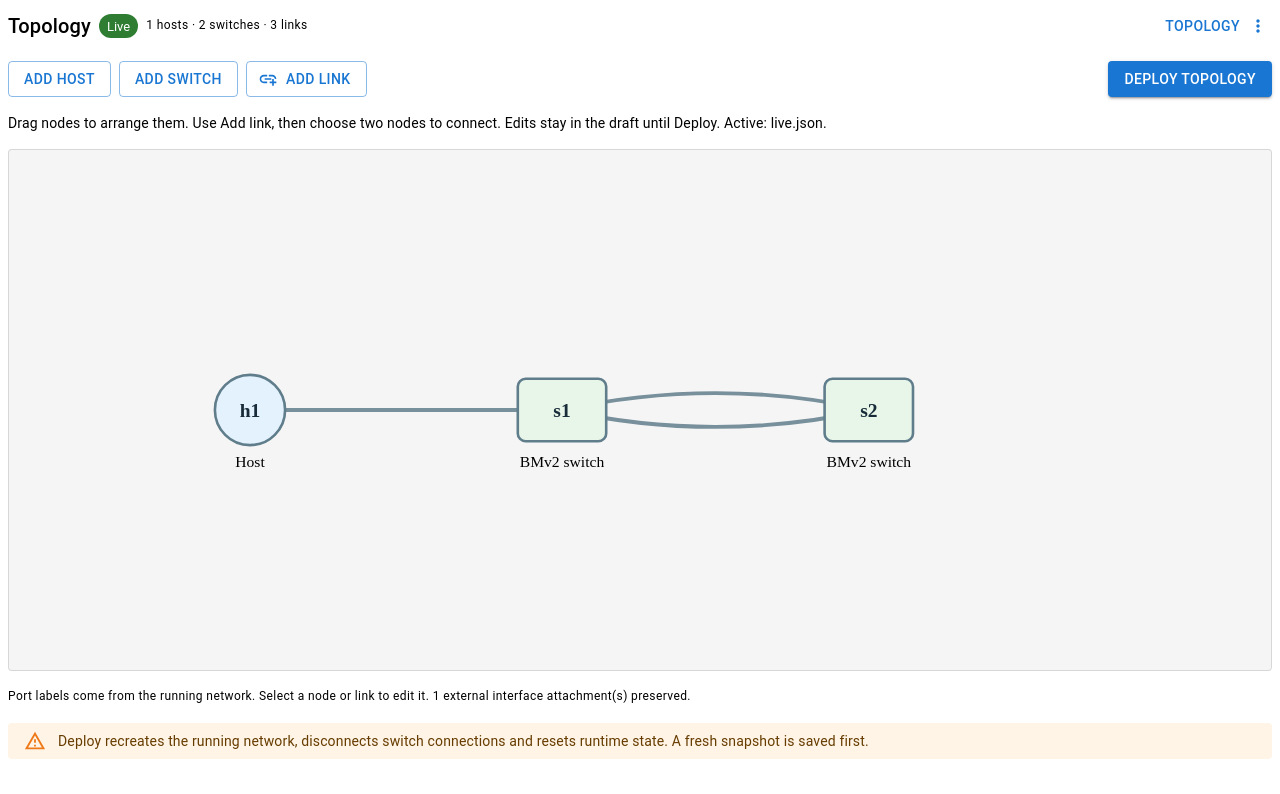
Test case: topology builder › requires confirmation before clearing the running network and keeps the draft
Click the button with aria-label "Topology menu".
click(1215, 26)  # box [1157,8,1272,44]
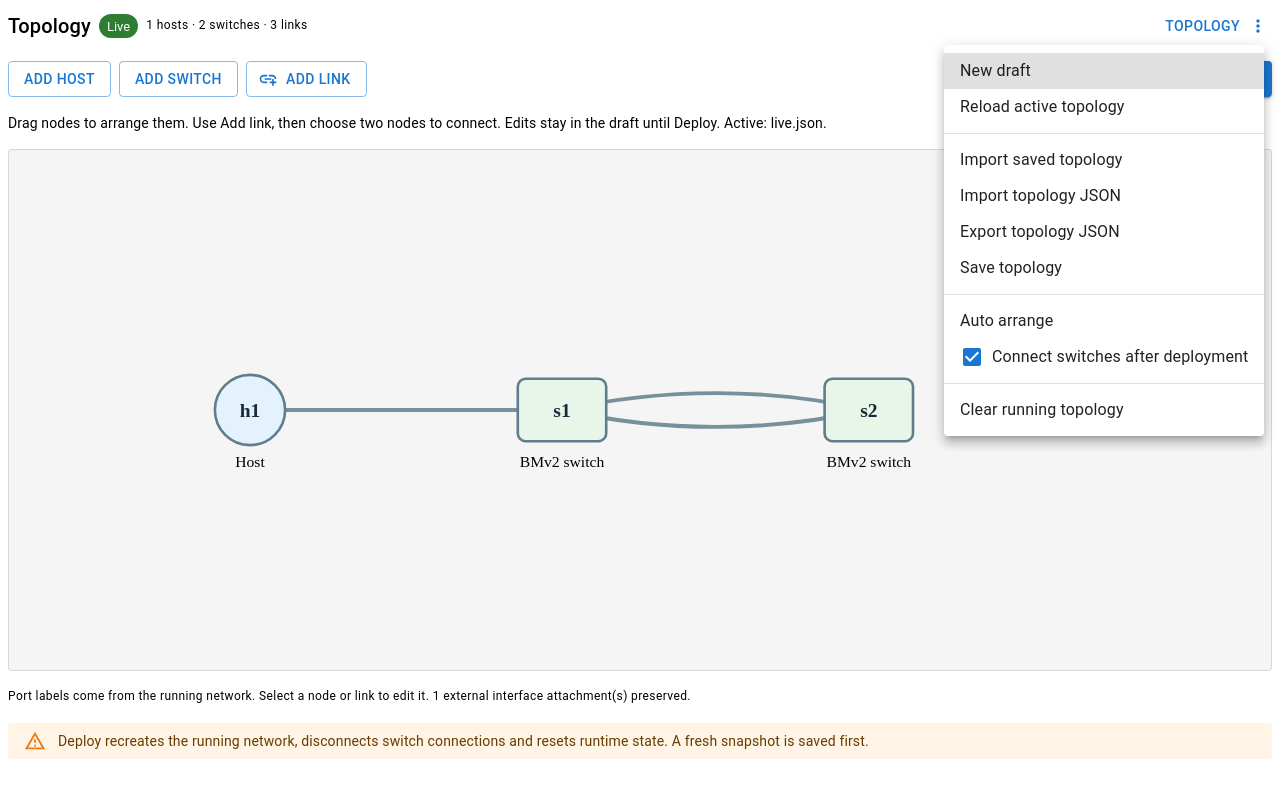
Click the menu item "Clear running topology".
click(1042, 410)  # box [960,400,1124,419]
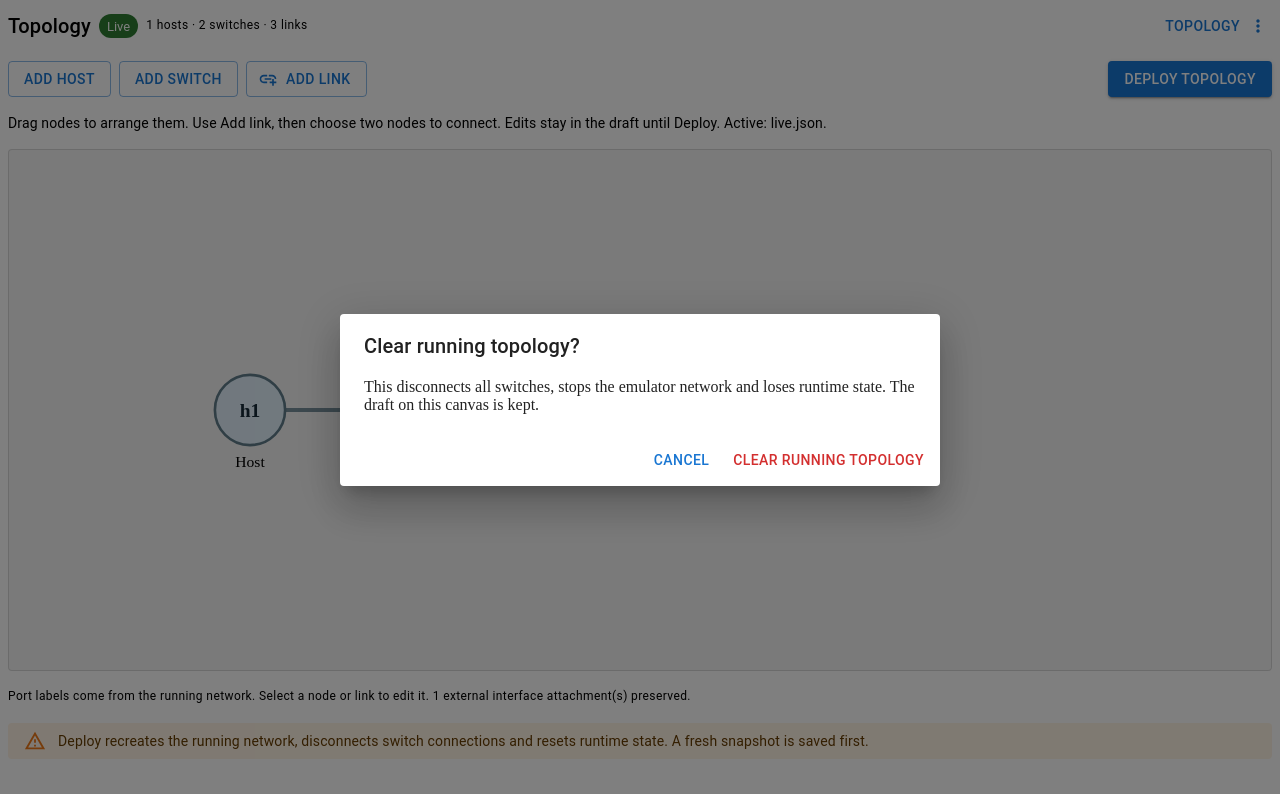
Click the button "Cancel".
click(682, 460)  # box [646,442,717,478]
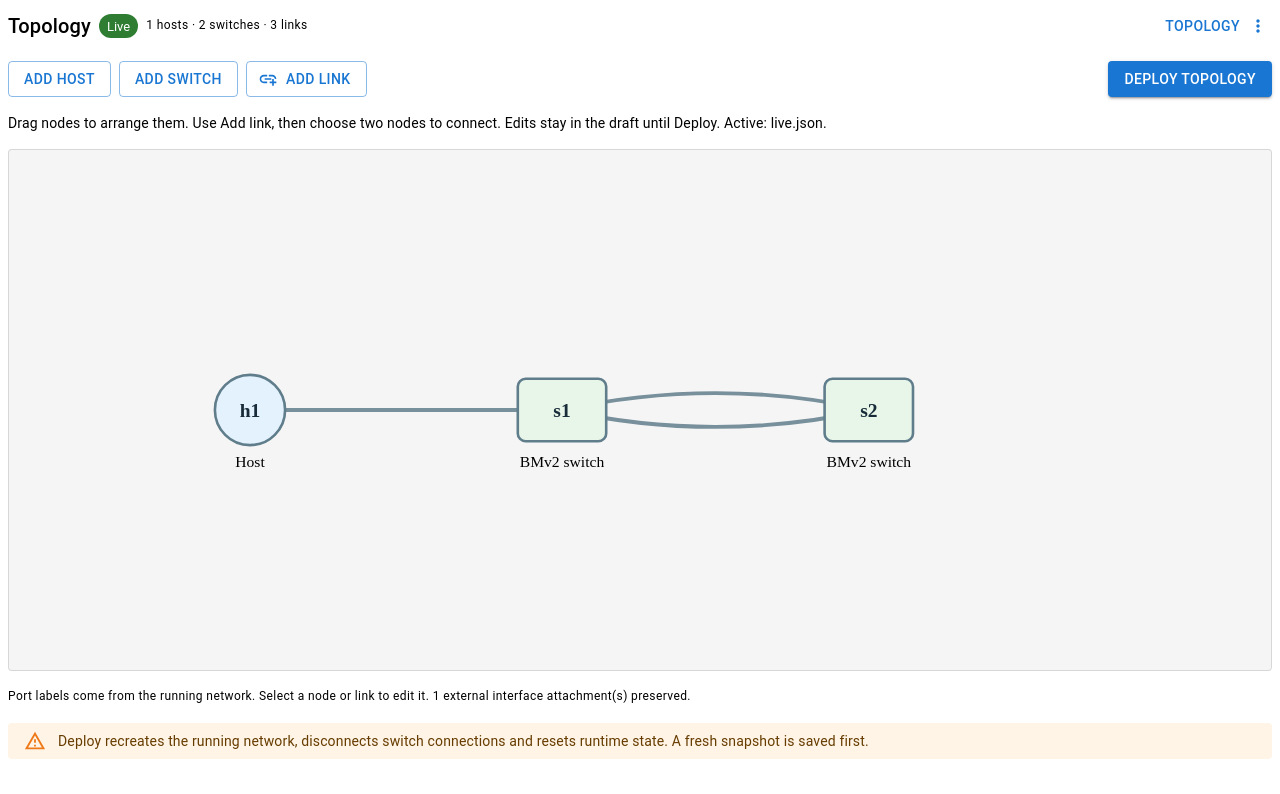
Now the heading "Clear running topology?" is gone
Click the button with aria-label "Topology menu".
click(1215, 26)  # box [1157,8,1272,44]
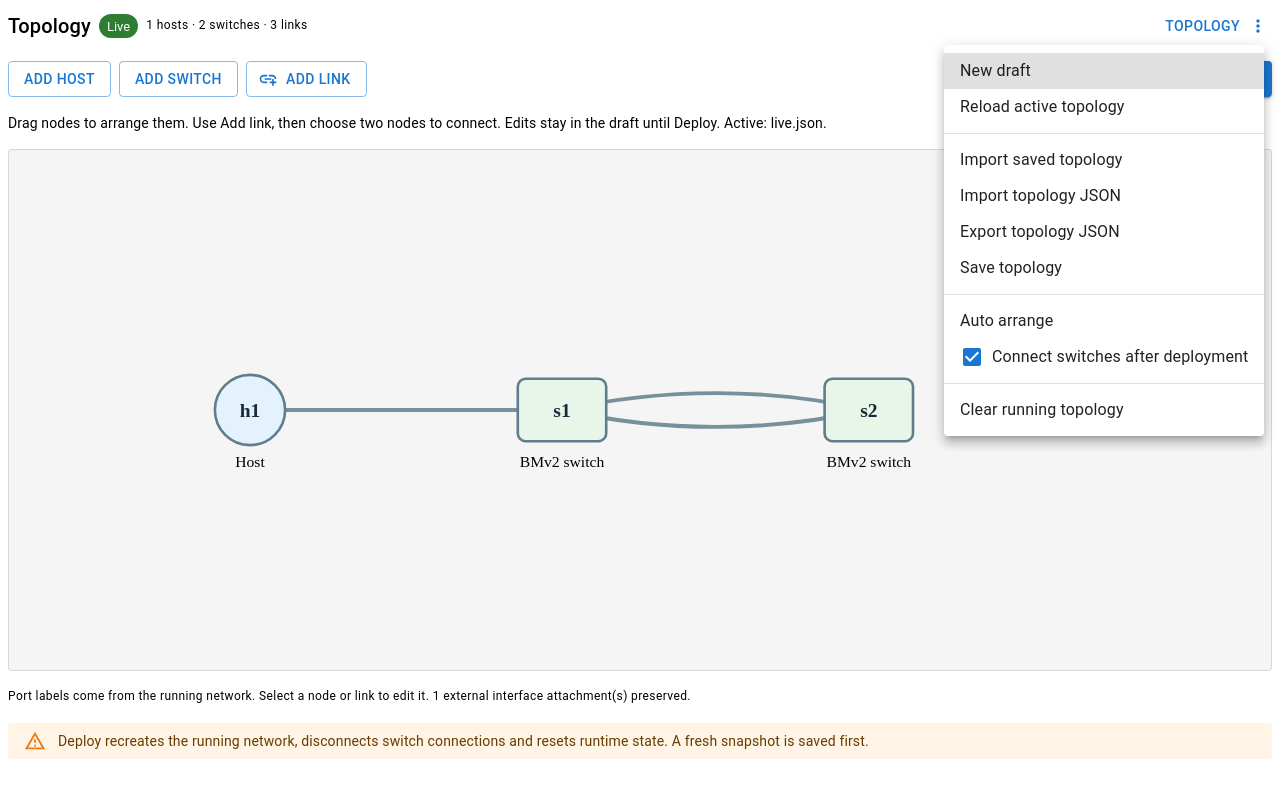
Click the menu item "Clear running topology".
click(1042, 410)  # box [960,400,1124,419]
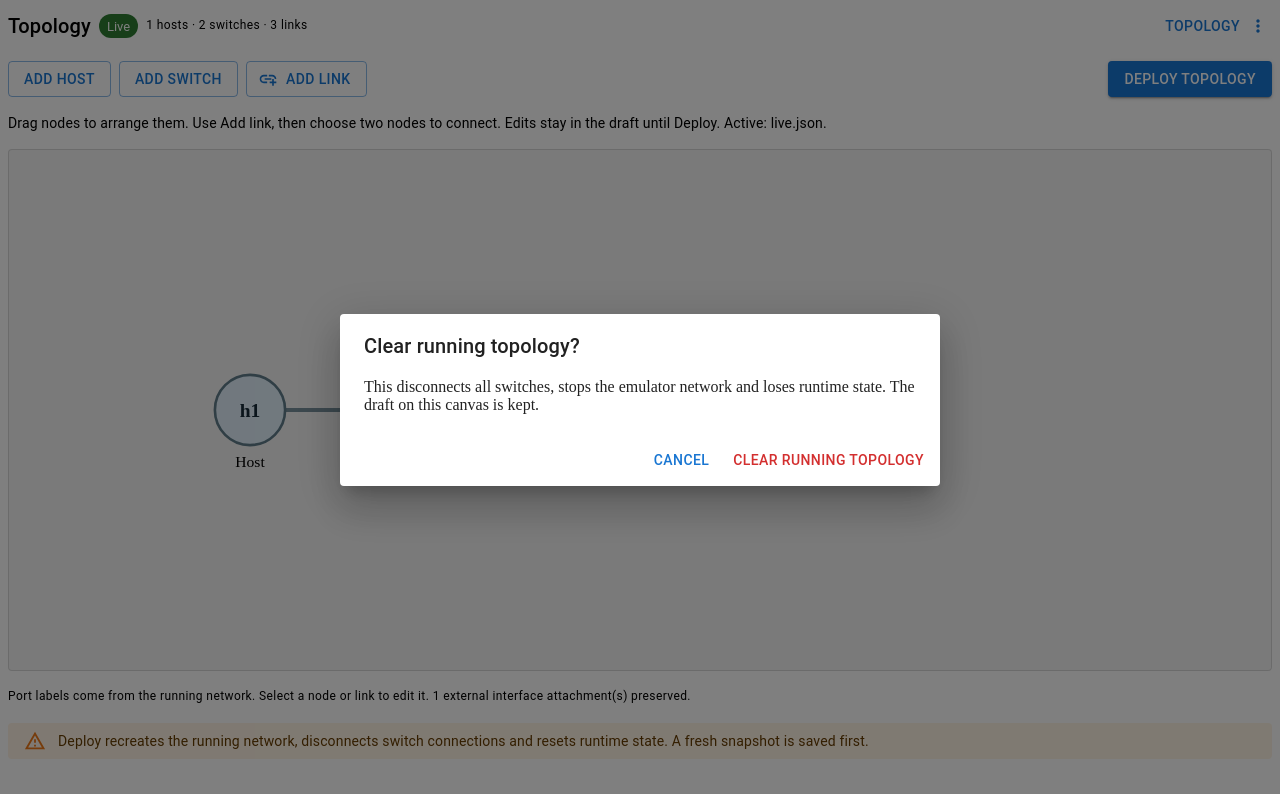
Click the button "Clear running topology".
click(829, 460)  # box [725,442,932,478]
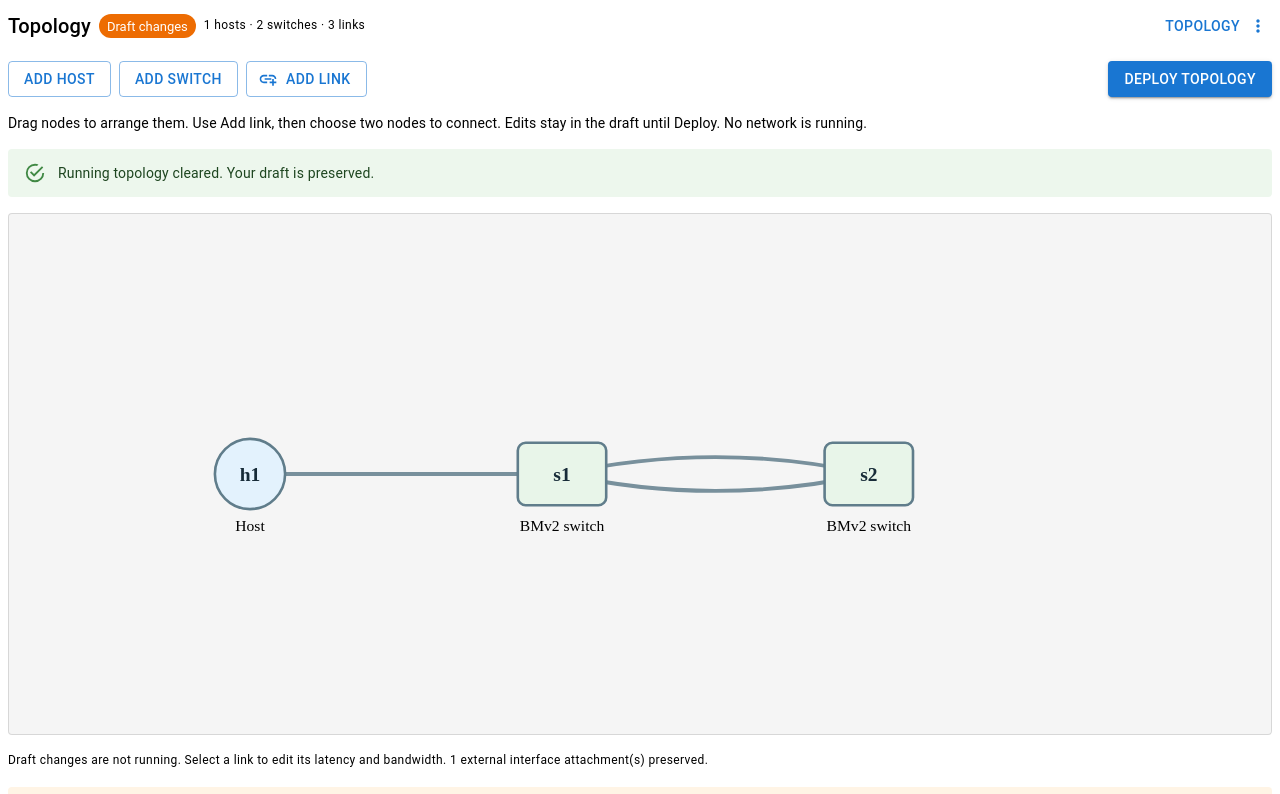
Now the text "Running topology cleared. Your draft is preserved." is shown, box [58,165,374,181]
Now the heading "Clear running topology?" is gone
Now the text "Draft changes" is shown, box [107,18,188,34]
